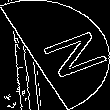N_SW: (13, 26, 97, 84)
